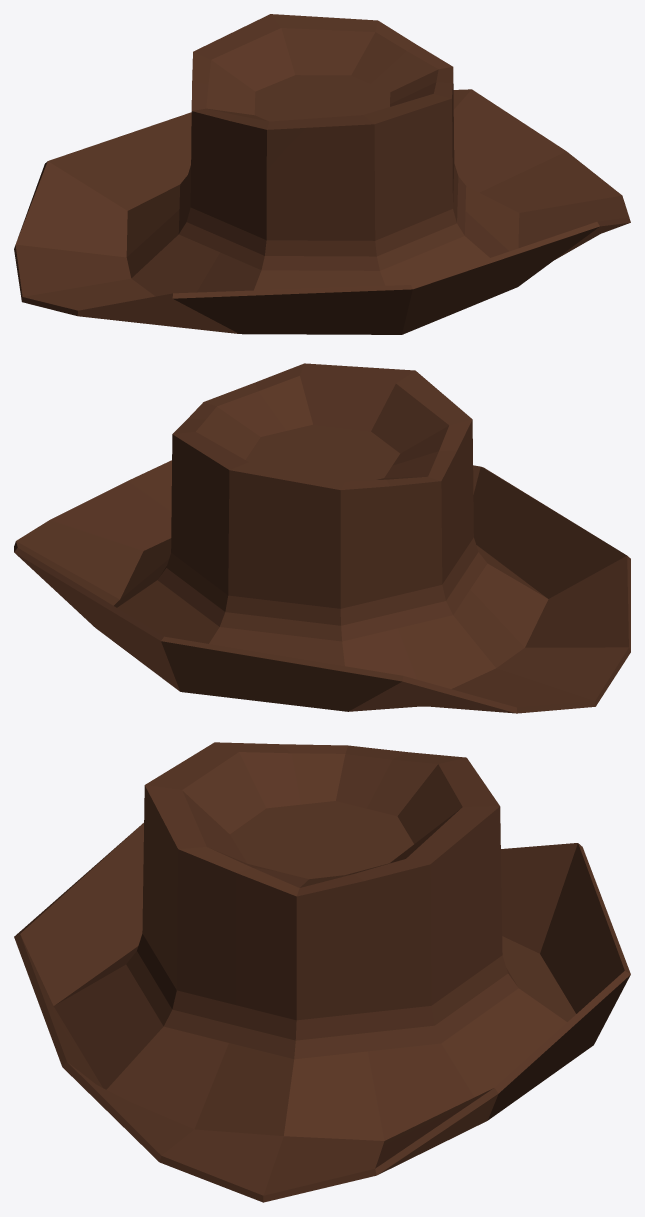
File: Cosmetic_Cowboy_Hat.glb
The picture shows the model from 3 angles, top to bottom: view 1: azimuth 30°, elevation 25°; view 2: azimuth 150°, elevation 25°; view 3: azimuth 270°, elevation 25°; orthographic projection. The views are drawn at different scales.
Visible parts, largest first — view 1: Cowboy_Hat; view 2: Cowboy_Hat; view 3: Cowboy_Hat.
Part boxes in pixels (<box>): Cowboy_Hat: <box>14,14,630,334</box>; Cowboy_Hat: <box>14,363,630,713</box>; Cowboy_Hat: <box>14,742,630,1202</box>.
Size of the model in its own units: 1.1 by 0.3695 by 0.8261.
